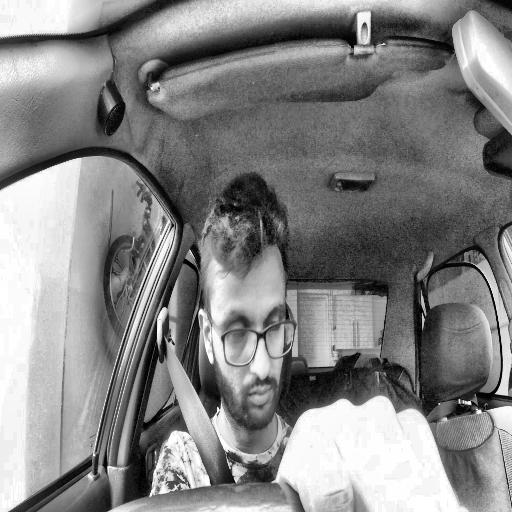drowsy: (197, 175, 296, 432)
